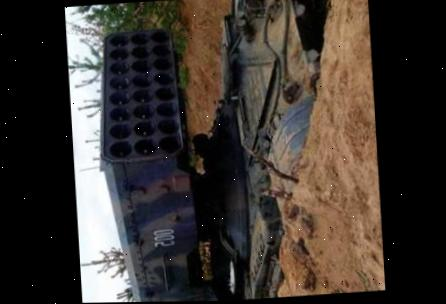rszo: (85, 0, 328, 303)
